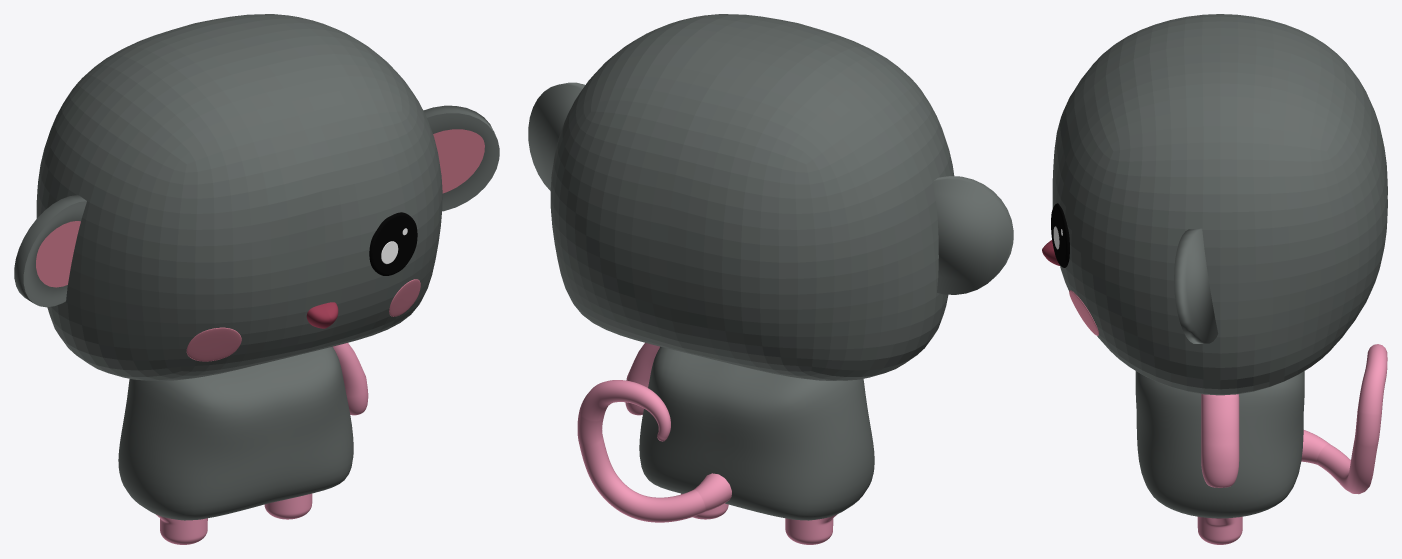
File: 07-03_Monkey.glb
The picture shows the model from 3 angles, left to right: view 1: azimuth 30°, elevation 25°; view 2: azimuth 150°, elevation 25°; view 3: azimuth 270°, elevation 25°; orthographic projection. The views are drawn at different scales.
Visible parts, largest first — view 1: Cube, Cube.001, Cylinder.003, Plane.001, Plane.002, Cylinder, Cylinder.001, Cube.005; view 2: Cube, Cube.001, Cylinder.003, BézierCurve, Cylinder, Cylinder.001; view 3: Cube, Cube.001, BézierCurve, Cylinder.003, Cylinder.001, Cylinder, Plane.002, Plane.001.
Boxes of the visible parts, x1,y1,x2,y2 form: Cube: [36, 14, 442, 380]; Cube.001: [118, 346, 353, 520]; Cylinder.003: [14, 105, 499, 307]; Plane.001: [186, 279, 420, 361]; Plane.002: [369, 212, 417, 275]; Cylinder: [156, 493, 312, 544]; Cylinder.001: [333, 343, 368, 415]; Cube.005: [306, 302, 338, 328]; Cube: [550, 14, 954, 380]; Cube.001: [639, 346, 874, 520]; Cylinder.003: [528, 82, 1013, 294]; BézierCurve: [577, 380, 731, 522]; Cylinder: [681, 493, 837, 544]; Cylinder.001: [625, 343, 659, 415]; Cube: [1052, 14, 1387, 395]; Cube.001: [1135, 371, 1304, 518]; BézierCurve: [1301, 344, 1387, 494]; Cylinder.003: [1174, 228, 1218, 343]; Cylinder.001: [1201, 394, 1239, 487]; Cylinder: [1197, 516, 1242, 544]; Plane.002: [1051, 203, 1069, 267]; Plane.001: [1069, 290, 1098, 335].
Size of the model in its own units: 6.22 by 5.99 by 3.98.
